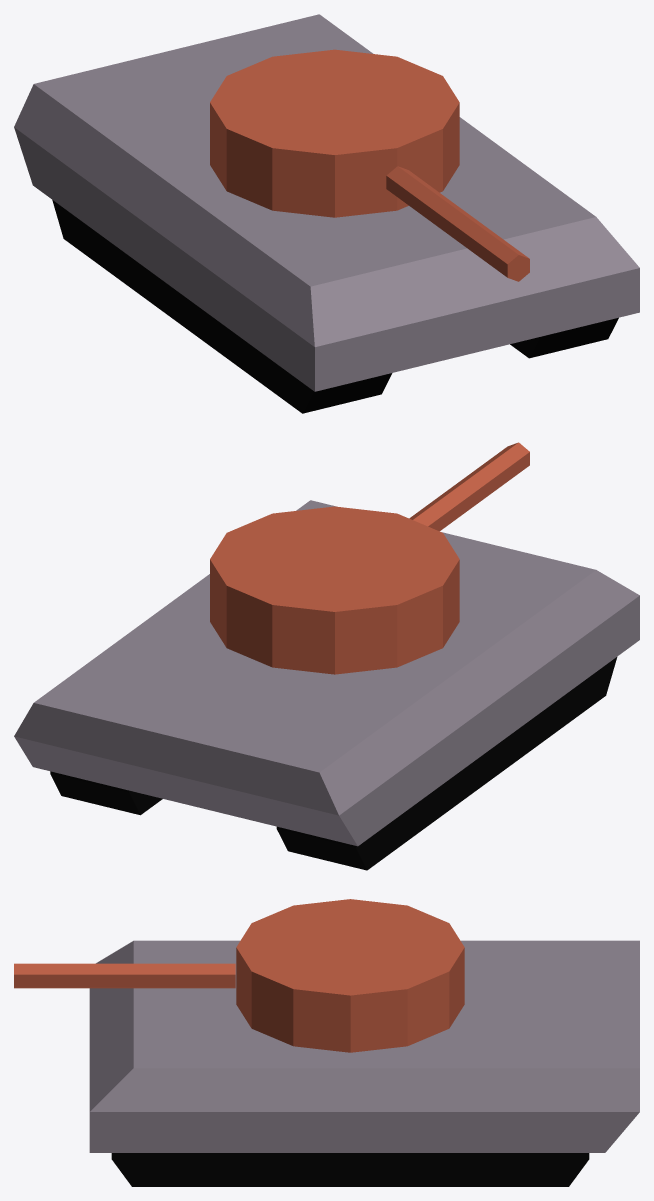
File: tank_enemy.glb
3 views of the same model, one above another, from view 1: azimuth 30°, elevation 25°; view 2: azimuth 150°, elevation 25°; view 3: azimuth 270°, elevation 25° (orthographic). The views are drawn at different scales.
Visible parts, largest first — view 1: Gold, Cylinder, Cube.001, Cube.002; view 2: Gold, Cylinder, Cube.001, Cube.002; view 3: Gold, Cylinder, Cube.002.
Boxes of the visible parts, left/top/right/bottom form: Gold: left=14, top=14, right=639, bottom=391; Cylinder: left=210, top=49, right=529, bottom=281; Cube.001: left=52, top=200, right=392, bottom=413; Cube.002: left=510, top=317, right=618, bottom=358; Gold: left=14, top=500, right=639, bottom=846; Cylinder: left=210, top=442, right=529, bottom=674; Cube.001: left=276, top=657, right=617, bottom=870; Cube.002: left=50, top=771, right=162, bottom=815; Gold: left=89, top=940, right=639, bottom=1152; Cylinder: left=14, top=899, right=464, bottom=1052; Cube.002: left=111, top=1153, right=589, bottom=1186.
Bounding box in the file's own units: 10.01 × 5.5 × 18.26.
